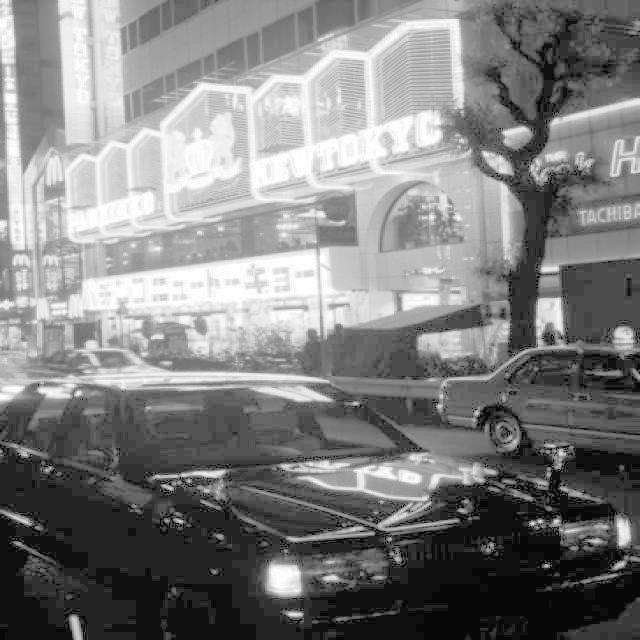Car: (0, 341, 635, 640), (394, 308, 640, 442), (39, 329, 165, 409)
